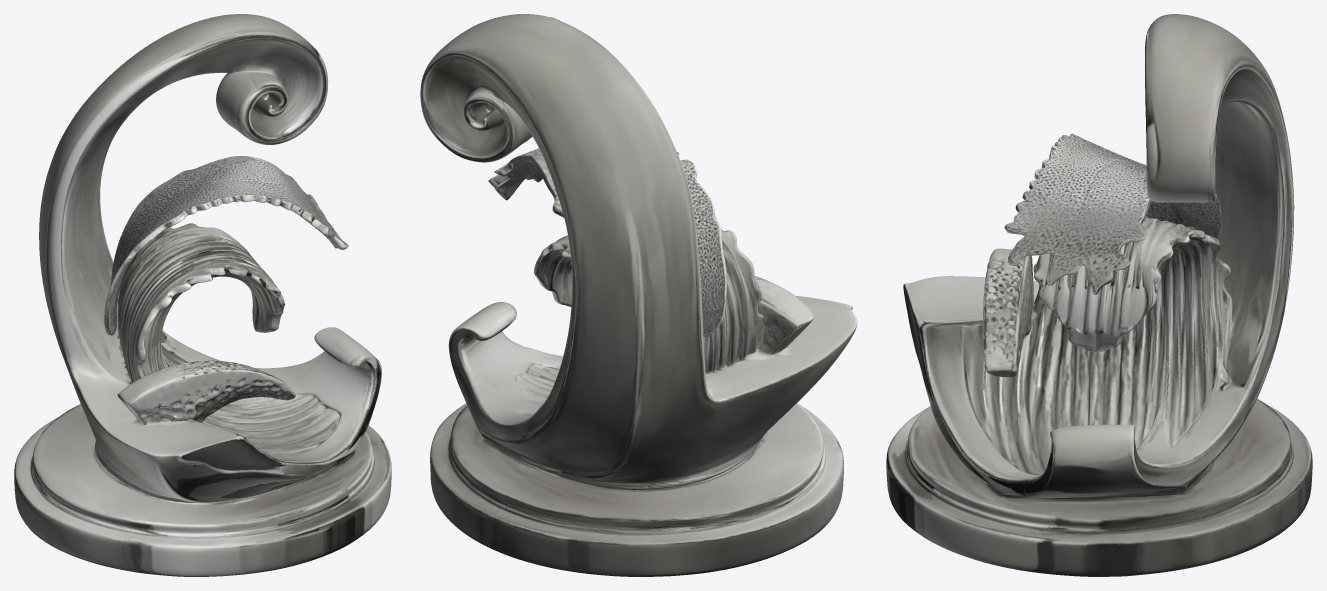
3 renders of one model, left to right at view 1: azimuth 30°, elevation 25°; view 2: azimuth 150°, elevation 25°; view 3: azimuth 270°, elevation 25°, orthographic. The views are drawn at different scales.
Parts seen in each view (by area): view 1: tripo_node_9f119d33-97aa-4f19-9d4e-f2312f307546; view 2: tripo_node_9f119d33-97aa-4f19-9d4e-f2312f307546; view 3: tripo_node_9f119d33-97aa-4f19-9d4e-f2312f307546.
Boxes of the visible parts, x1,y1,x2,y2 form: tripo_node_9f119d33-97aa-4f19-9d4e-f2312f307546: (14, 14, 391, 576); tripo_node_9f119d33-97aa-4f19-9d4e-f2312f307546: (420, 14, 857, 576); tripo_node_9f119d33-97aa-4f19-9d4e-f2312f307546: (886, 14, 1312, 576).
Size of the model in its own units: 0.7675 by 0.9802 by 0.7633.
Materials: 1 (1 with a texture image).
